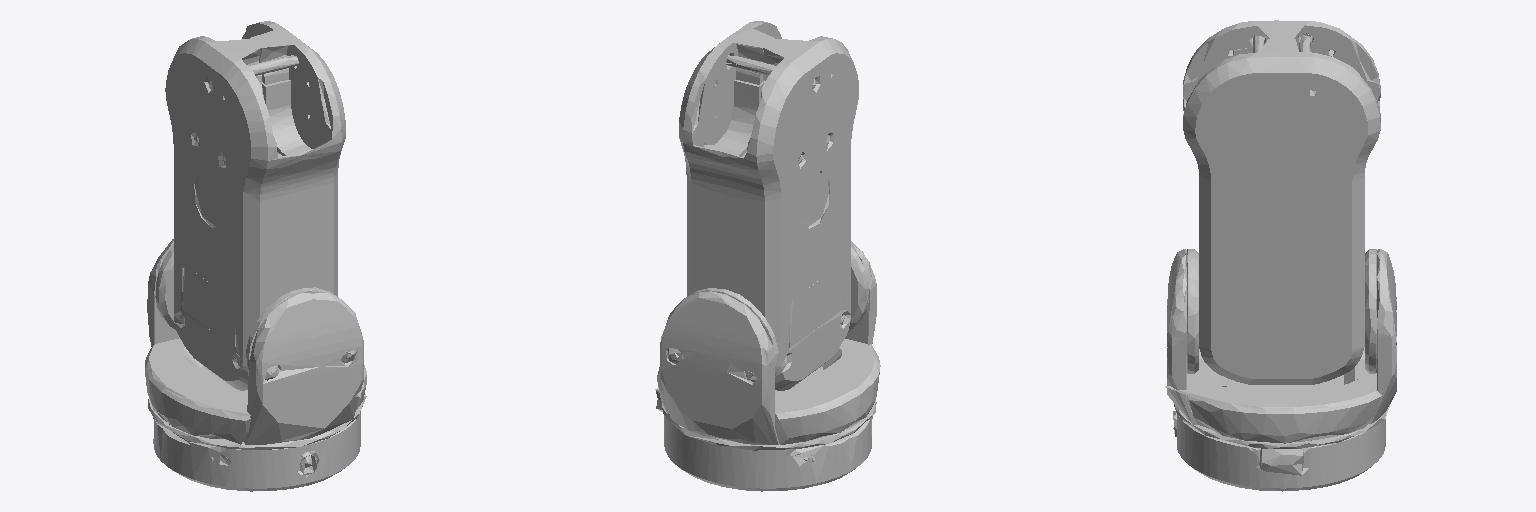
robot.urdf — onrobot_rg2_model:
<?xml version="1.0" ?>
<!-- =================================================================================== -->
<!-- |    This document was autogenerated by xacro from urdf/onrobot_rg2_model.xacro   | -->
<!-- |    EDITING THIS FILE BY HAND IS NOT RECOMMENDED                                 | -->
<!-- =================================================================================== -->
<robot name="onrobot_rg2_model">
  <link name="onrobot_rg2_base_link">
    <inertial>
      <origin rpy="0 0 0" xyz="0.0 0.0 0.0"/>
      <mass value="0.7"/>
      <inertia ixx="1.0E-03" ixy="1.0E-06" ixz="1.0E-06" iyy="1.0E-03" iyz="1.0E-06" izz="1.0E-03"/>
    </inertial>
    <visual>
      <origin rpy="0 0 0" xyz="0 0 0"/>
      <geometry>
        <mesh filename="package://par_pkg/meshes/visual/base_link_v2.stl"/>
      </geometry>
      <material name="">
        <color rgba="0.8 0.8 0.8 1"/>
      </material>
    </visual>
    <collision>
      <origin rpy="0 0 0" xyz="0 0 0"/>
      <geometry>
        <mesh filename="package://par_pkg/meshes/collision/base_link.stl"/>
      </geometry>
    </collision>
  </link>
  <link name="left_outer_knuckle">
    <inertial>
      <origin rpy="0 0 0" xyz="0.0 0.0 0.0"/>
      <mass value="0.05"/>
      <inertia ixx="1.0E-03" ixy="1.0E-06" ixz="1.0E-06" iyy="1.0E-03" iyz="1.0E-06" izz="1.0E-03"/>
    </inertial>
    <visual>
      <origin rpy="0 0 0" xyz="0 0 0"/>
      <geometry>
        <mesh filename="package://par_pkg/meshes/visual/outer_knuckle.stl"/>
      </geometry>
      <material name="">
        <color rgba="0.8 0.8 0.8 1"/>
      </material>
    </visual>
    <collision>
      <origin rpy="0 0 0" xyz="0 0 0"/>
      <geometry>
        <mesh filename="package://par_pkg/meshes/collision/outer_knuckle.stl"/>
      </geometry>
    </collision>
  </link>
  <link name="left_inner_knuckle">
    <inertial>
      <origin rpy="0 0 0" xyz="0.0 0.0 0.0"/>
      <mass value="0.05"/>
      <inertia ixx="1.0E-03" ixy="1.0E-06" ixz="1.0E-06" iyy="1.0E-03" iyz="1.0E-06" izz="1.0E-03"/>
    </inertial>
    <visual>
      <origin rpy="0 0 0" xyz="0 0 0"/>
      <geometry>
        <mesh filename="package://par_pkg/meshes/visual/inner_knuckle.stl"/>
      </geometry>
      <material name="">
        <color rgba="0.8 0.8 0.8 1"/>
      </material>
    </visual>
    <collision>
      <origin rpy="0 0 0" xyz="0 0 0"/>
      <geometry>
        <mesh filename="package://par_pkg/meshes/collision/inner_knuckle.stl"/>
      </geometry>
    </collision>
  </link>
  <link name="left_inner_finger">
    <inertial>
      <origin rpy="0 0 0" xyz="0.0 0.0 0.0"/>
      <mass value="0.05"/>
      <inertia ixx="1.0E-03" ixy="1.0E-06" ixz="1.0E-06" iyy="1.0E-03" iyz="1.0E-06" izz="1.0E-03"/>
    </inertial>
    <visual>
      <origin rpy="0 0 0" xyz="0 0 0"/>
      <geometry>
        <mesh filename="package://par_pkg/meshes/visual/inner_finger.stl"/>
      </geometry>
      <material name="">
        <color rgba="0.1 0.1 0.1 1"/>
      </material>
    </visual>
    <collision>
      <origin rpy="0 0 0" xyz="0 0 0"/>
      <geometry>
        <mesh filename="package://par_pkg/meshes/collision/inner_finger.stl"/>
      </geometry>
    </collision>
  </link>
  <link name="right_outer_knuckle">
    <inertial>
      <origin rpy="0 0 0" xyz="0.0 0.0 0.0"/>
      <mass value="0.05"/>
      <inertia ixx="1.0E-03" ixy="1.0E-06" ixz="1.0E-06" iyy="1.0E-03" iyz="1.0E-06" izz="1.0E-03"/>
    </inertial>
    <visual>
      <origin rpy="0 0 0" xyz="0 0 0"/>
      <geometry>
        <mesh filename="package://par_pkg/meshes/visual/outer_knuckle.stl"/>
      </geometry>
      <material name="">
        <color rgba="0.8 0.8 0.8 1"/>
      </material>
    </visual>
    <collision>
      <origin rpy="0 0 0" xyz="0 0 0"/>
      <geometry>
        <mesh filename="package://par_pkg/meshes/collision/outer_knuckle.stl"/>
      </geometry>
    </collision>
  </link>
  <link name="right_inner_knuckle">
    <inertial>
      <origin rpy="0 0 0" xyz="0.0 0.0 0.0"/>
      <mass value="0.05"/>
      <inertia ixx="1.0E-03" ixy="1.0E-06" ixz="1.0E-06" iyy="1.0E-03" iyz="1.0E-06" izz="1.0E-03"/>
    </inertial>
    <visual>
      <origin rpy="0 0 0" xyz="0 0 0"/>
      <geometry>
        <mesh filename="package://par_pkg/meshes/visual/inner_knuckle.stl"/>
      </geometry>
      <material name="">
        <color rgba="0.8 0.8 0.8 1"/>
      </material>
    </visual>
    <collision>
      <origin rpy="0 0 0" xyz="0 0 0"/>
      <geometry>
        <mesh filename="package://par_pkg/meshes/collision/inner_knuckle.stl"/>
      </geometry>
    </collision>
  </link>
  <link name="right_inner_finger">
    <inertial>
      <origin rpy="0 0 0" xyz="0.0 0.0 0.0"/>
      <mass value="0.05"/>
      <inertia ixx="1.0E-03" ixy="1.0E-06" ixz="1.0E-06" iyy="1.0E-03" iyz="1.0E-06" izz="1.0E-03"/>
    </inertial>
    <visual>
      <origin rpy="0 0 0" xyz="0 0 0"/>
      <geometry>
        <mesh filename="package://par_pkg/meshes/visual/inner_finger.stl"/>
      </geometry>
      <material name="">
        <color rgba="0.1 0.1 0.1 1"/>
      </material>
    </visual>
    <collision>
      <origin rpy="0 0 0" xyz="0 0 0"/>
      <geometry>
        <mesh filename="package://par_pkg/meshes/collision/inner_finger.stl"/>
      </geometry>
    </collision>
  </link>
  <joint name="finger_joint" type="revolute">
    <origin rpy="0 0 0" xyz="0 -0.017178 0.125797"/>
    <parent link="onrobot_rg2_base_link"/>
    <child link="left_outer_knuckle"/>
    <axis xyz="-1 0 0"/>
    <limit effort="1000" lower="-0.558505" upper="0.785398" velocity="2.0"/>
  </joint>
  <joint name="left_inner_knuckle_joint" type="revolute">
    <origin rpy="0 0 0.0" xyz="0 -0.007678 0.1422970"/>
    <parent link="onrobot_rg2_base_link"/>
    <child link="left_inner_knuckle"/>
    <axis xyz="1 0 0"/>
    <limit effort="1000" lower="-0.558505" upper="0.785398" velocity="2.0"/>
    <mimic joint="finger_joint" multiplier="-1" offset="0"/>
  </joint>
  <joint name="left_inner_finger_joint" type="revolute">
    <origin rpy="0 0 0" xyz="0 -0.039592 0.038177000000000016"/>
    <parent link="left_outer_knuckle"/>
    <child link="left_inner_finger"/>
    <axis xyz="1 0 0"/>
    <limit effort="1000" lower="-0.872665" upper="0.872665" velocity="2.0"/>
    <mimic joint="finger_joint" multiplier="1" offset="0"/>
  </joint>
  <joint name="right_outer_knuckle_joint" type="revolute">
    <origin rpy="0 0 3.141592653589793" xyz="0 0.017178 0.125797"/>
    <parent link="onrobot_rg2_base_link"/>
    <child link="right_outer_knuckle"/>
    <axis xyz="1 0 0"/>
    <limit effort="1000" lower="-0.558505" upper="0.785398" velocity="2.0"/>
    <mimic joint="finger_joint" multiplier="-1" offset="0"/>
  </joint>
  <joint name="right_inner_knuckle_joint" type="revolute">
    <origin rpy="0 0 -3.141592653589793" xyz="0 0.007678 0.1422970"/>
    <parent link="onrobot_rg2_base_link"/>
    <child link="right_inner_knuckle"/>
    <axis xyz="1 0 0"/>
    <limit effort="1000" lower="-0.558505" upper="0.785398" velocity="2.0"/>
    <mimic joint="finger_joint" multiplier="-1" offset="0"/>
  </joint>
  <joint name="right_inner_finger_joint" type="revolute">
    <origin rpy="0 0 0" xyz="0 -0.039592 0.038177000000000016"/>
    <parent link="right_outer_knuckle"/>
    <child link="right_inner_finger"/>
    <axis xyz="1 0 0"/>
    <limit effort="1000" lower="-0.872665" upper="0.872665" velocity="2.0"/>
    <mimic joint="finger_joint" multiplier="1" offset="0"/>
  </joint>
  <transmission name="finger_joint_trans">
    <type>transmission_interface/SimpleTransmission</type>
    <joint name="finger_joint">
      <hardwareInterface>PositionJointInterface</hardwareInterface>
    </joint>
    <actuator name="finger_joint_motor">
      <mechanicalReduction>1</mechanicalReduction>
    </actuator>
  </transmission>
</robot>

--- Render facts (derived) ---
3 views of the same robot in one strip: view 1: azimuth 30°, elevation 25°; view 2: azimuth 150°, elevation 25°; view 3: azimuth 270°, elevation 25° (orthographic).
Robot: onrobot_rg2_model — 7 links, 6 joints (6 revolute); root link onrobot_rg2_base_link; default pose: every joint at zero.
Links seen in each view (by area): view 1: onrobot_rg2_base_link; view 2: onrobot_rg2_base_link; view 3: onrobot_rg2_base_link.
Link boxes in pixels (x1=…): onrobot_rg2_base_link: x1=145, y1=21, x2=366, y2=491; onrobot_rg2_base_link: x1=655, y1=21, x2=880, y2=491; onrobot_rg2_base_link: x1=1165, y1=20, x2=1396, y2=491.
Bounding box of the posed robot: 0.0751 × 0.0763 × 0.148 m (x, y, z).
1 mesh visuals loaded from 4 distinct referenced files (1 binary STL); not drawn: 6 (reference not matched to a file when rendering).